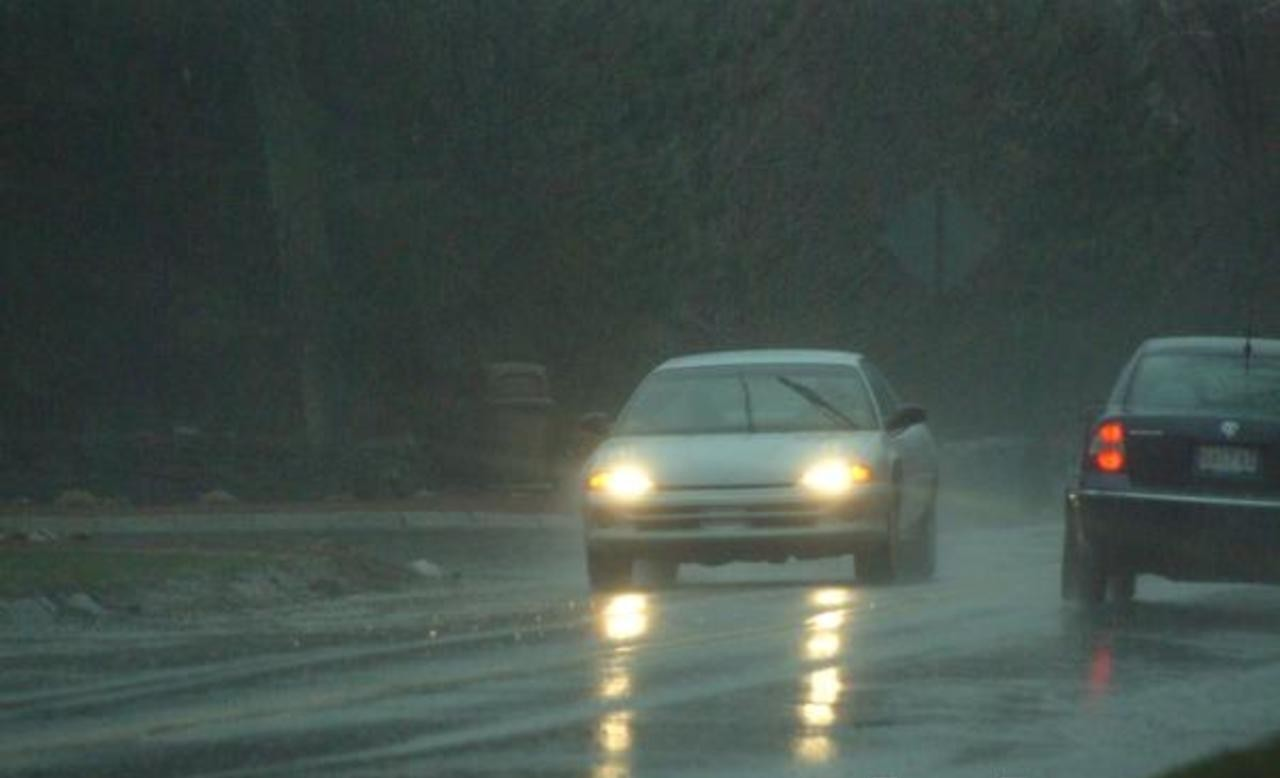car: (578, 349, 940, 589), (1065, 339, 1279, 614)
